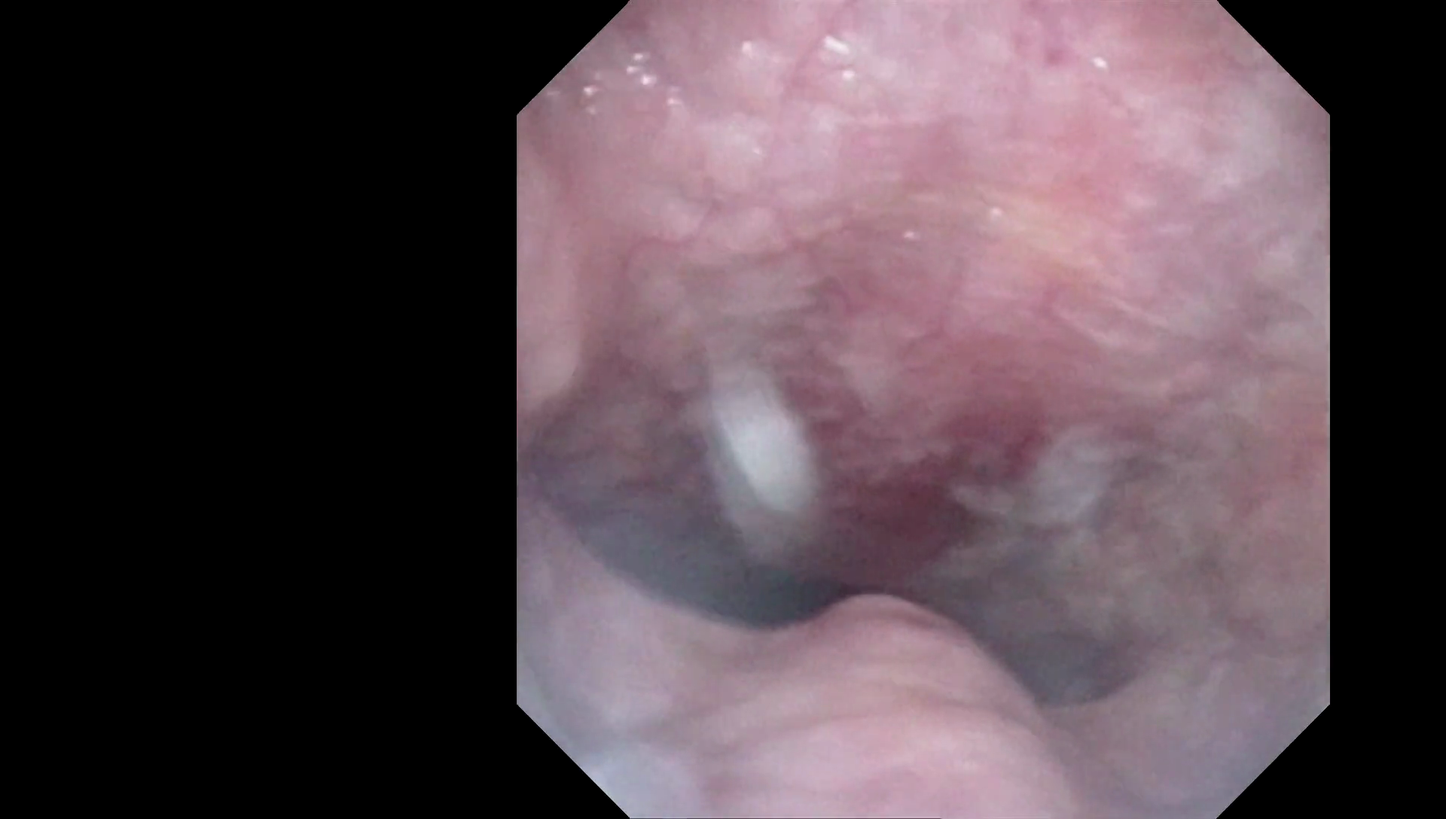next: (591, 494, 916, 660)
